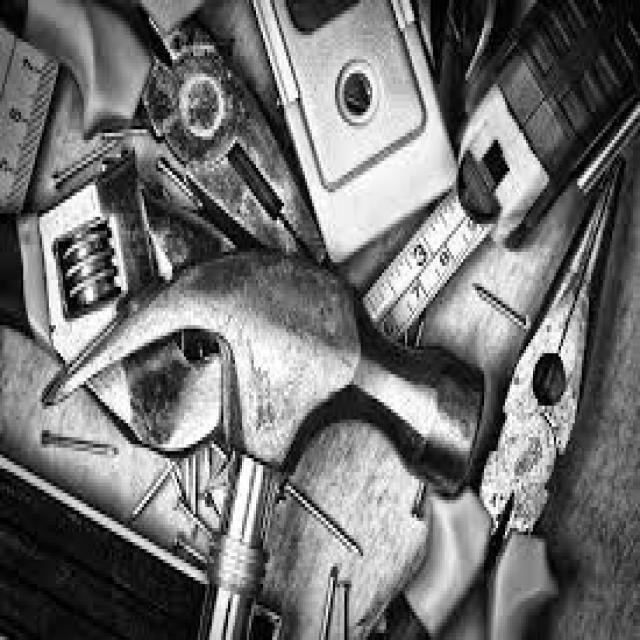hammer: (32, 241, 474, 640)
pliers: (429, 153, 636, 640)
